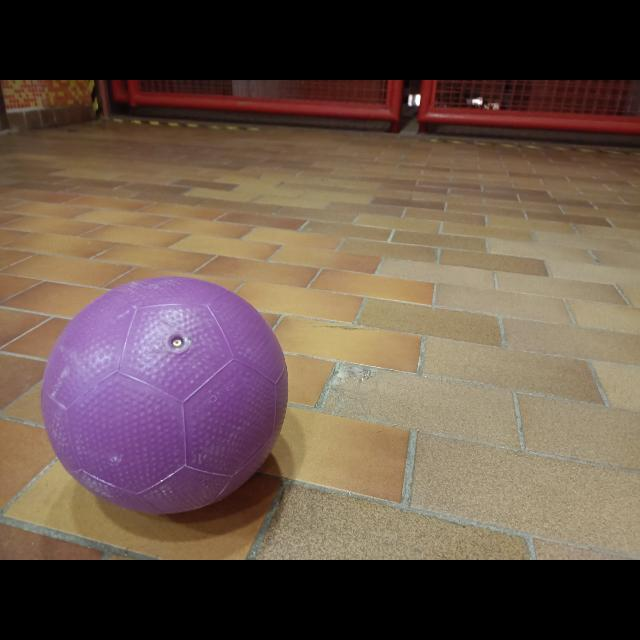P: (40, 274, 294, 522)
